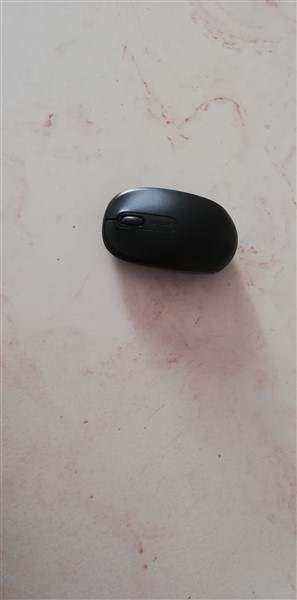mouse: (95, 175, 241, 280)
